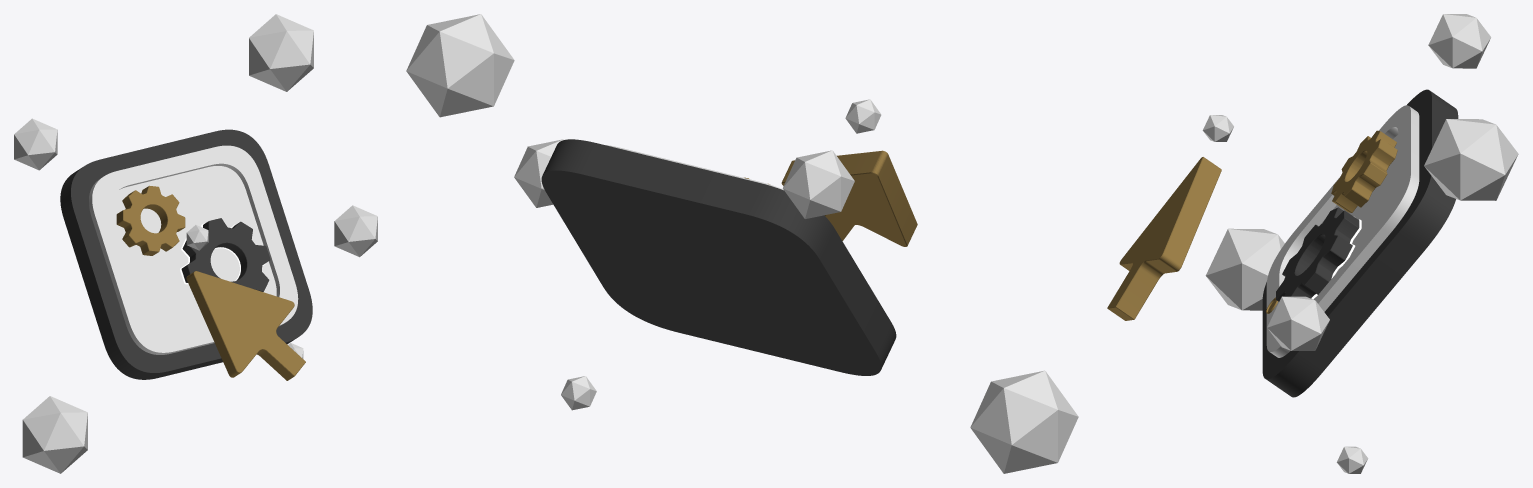
File: back-end.gltf
3 views of the same model, side by side, from view 1: azimuth 30°, elevation 25°; view 2: azimuth 150°, elevation 25°; view 3: azimuth 270°, elevation 25° (orthographic). The views are drawn at different scales.
Visible parts, largest first — view 1: Box066, Box068, Box067, Line877526538, Hedra001.002, Hedra001.004, Line877526539, Line877526540, Hedra001.005, Hedra001.001, Hedra001; view 2: Box066, Hedra001.002, Hedra001.004, Line877526538, Hedra001.005, Hedra001.001, Hedra001, Hedra001.003; view 3: Box066, Box067, Line877526538, Hedra001.004, Hedra001.002, Line877526539, Line877526540, Hedra001.001, Hedra001.005, Box068, Hedra001.003, Hedra001.
Boxes of the visible parts, x1=… form: Box066: x1=60, y1=129, x2=312, y2=379; Box068: x1=110, y1=166, x2=276, y2=334; Box067: x1=89, y1=145, x2=298, y2=354; Line877526538: x1=186, y1=271, x2=305, y2=380; Hedra001.002: x1=22, y1=396, x2=87, y2=473; Hedra001.004: x1=249, y1=14, x2=313, y2=91; Line877526539: x1=181, y1=218, x2=270, y2=291; Line877526540: x1=116, y1=185, x2=185, y2=255; Hedra001.005: x1=14, y1=118, x2=57, y2=170; Hedra001.001: x1=334, y1=205, x2=377, y2=257; Hedra001: x1=186, y1=225, x2=208, y2=250; Box066: x1=541, y1=139, x2=896, y2=375; Hedra001.002: x1=970, y1=370, x2=1078, y2=473; Hedra001.004: x1=406, y1=14, x2=514, y2=117; Line877526538: x1=781, y1=150, x2=917, y2=246; Hedra001.005: x1=782, y1=150, x2=854, y2=218; Hedra001.001: x1=514, y1=139, x2=564, y2=207; Hedra001: x1=845, y1=99, x2=881, y2=133; Hedra001.003: x1=561, y1=376, x2=596, y2=410; Box066: x1=1262, y1=89, x2=1458, y2=397; Box067: x1=1266, y1=105, x2=1419, y2=357; Line877526538: x1=1107, y1=157, x2=1221, y2=320; Hedra001.004: x1=1424, y1=119, x2=1518, y2=200; Hedra001.002: x1=1205, y1=228, x2=1284, y2=310; Line877526539: x1=1276, y1=207, x2=1359, y2=301; Line877526540: x1=1331, y1=130, x2=1397, y2=212; Hedra001.001: x1=1267, y1=296, x2=1329, y2=350; Hedra001.005: x1=1428, y1=14, x2=1491, y2=68; Box068: x1=1313, y1=135, x2=1398, y2=299; Hedra001.003: x1=1336, y1=446, x2=1367, y2=473; Hedra001: x1=1202, y1=115, x2=1233, y2=141.
Size of the model in its own units: 382 by 298 by 295.
